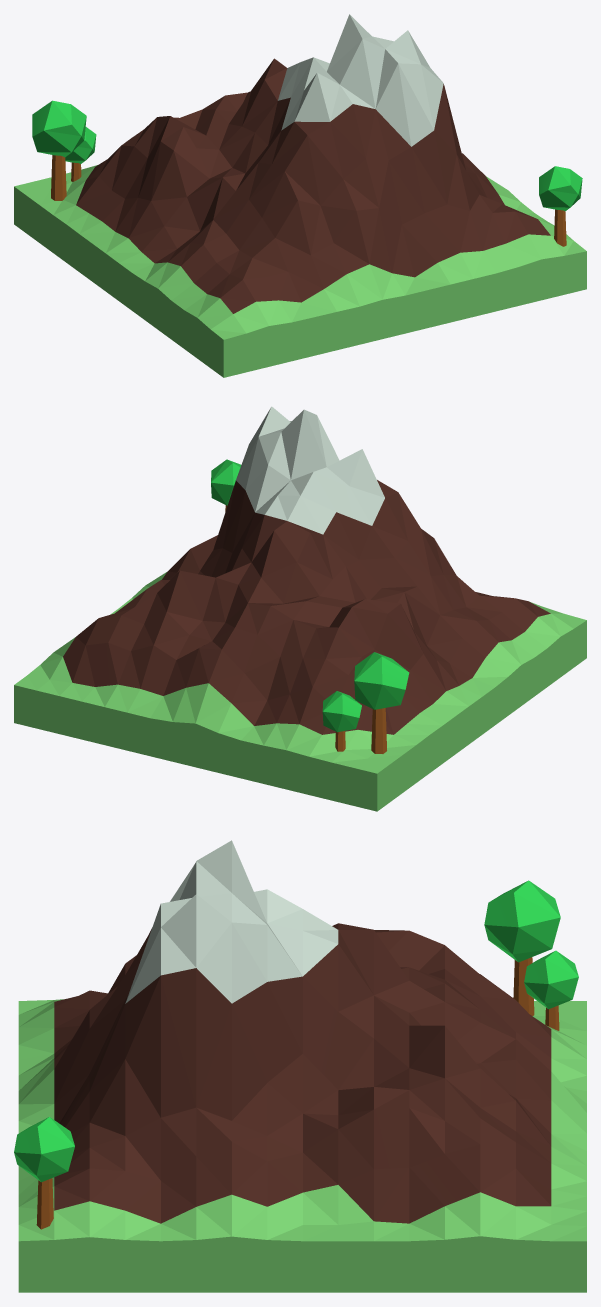
Rendered from mountains_1.fbx.
3 renders of one model, top to bottom at view 1: azimuth 30°, elevation 25°; view 2: azimuth 150°, elevation 25°; view 3: azimuth 270°, elevation 25°, orthographic. The views are drawn at different scales.
Visible parts, largest first — view 1: Plane.001; view 2: Plane.001; view 3: Plane.001.
Part boxes in pixels (x1,y1,x2,y2): Plane.001: [14, 14, 586, 377]; Plane.001: [14, 406, 586, 811]; Plane.001: [14, 840, 586, 1292].
Size of the model in its own units: 2049 by 1349 by 2017.
